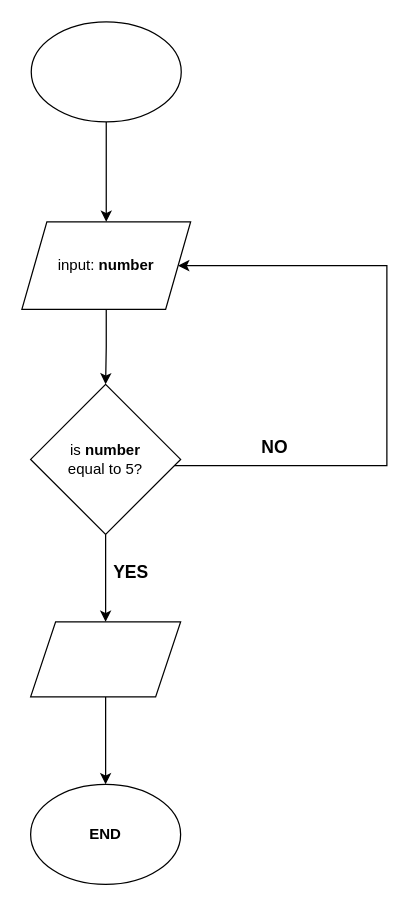
Some shapes in this 419 by 906 pixel diagram are drawn without their labels. Each missing label, with the centre of its shape:
display: "EQUAL!": pixel 105 659
START: pixel 105 71
